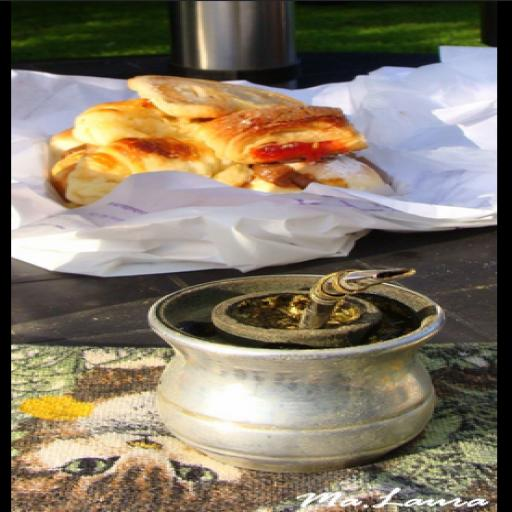bolleria: (65, 137, 230, 204), (197, 106, 367, 164)
mate: (149, 268, 445, 473)
termo: (169, 0, 300, 86)
